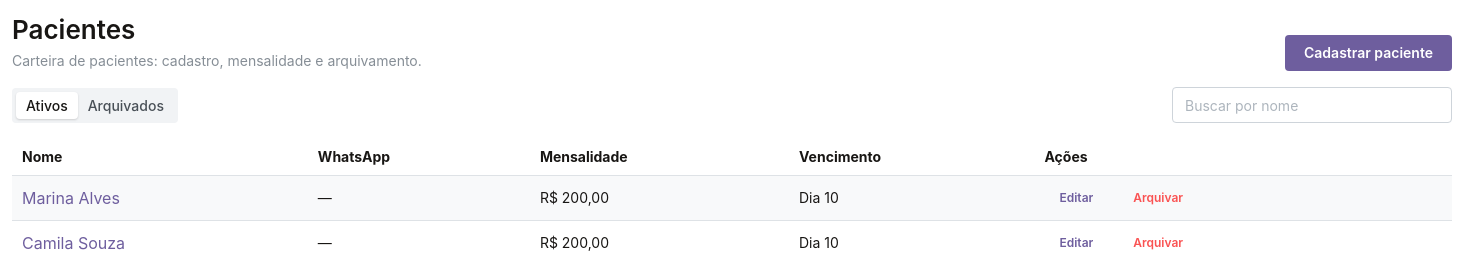
it: PatientsListPage › busca por nome (com debounce) filtra a lista via adapter
Expected: the link "Marina Alves" is shown, [22,188,120,208]
Expected: the link "Camila Souza" is shown, [22,233,125,253]
Type "Camila" into the field named "Buscar paciente por nome". click: {"x": 1312, "y": 105}
box: [1172,87,1452,123]
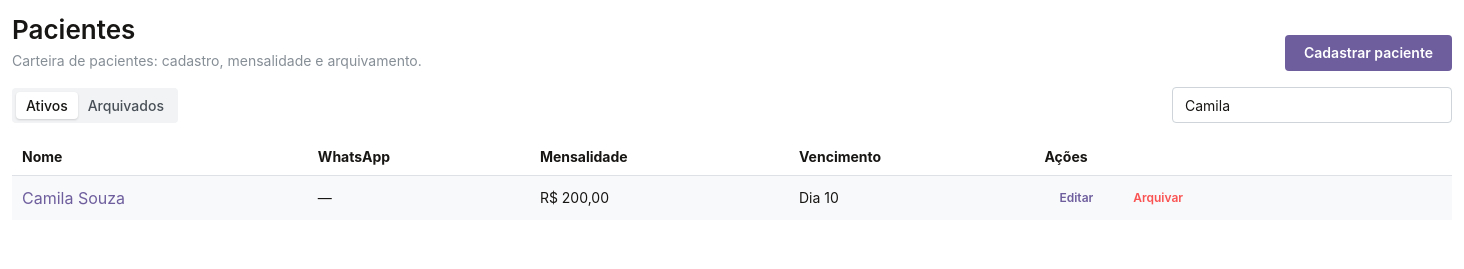
Expected: the link "Camila Souza" is shown, [22,188,125,208]
Expected: the link "Marina Alves" is gone
